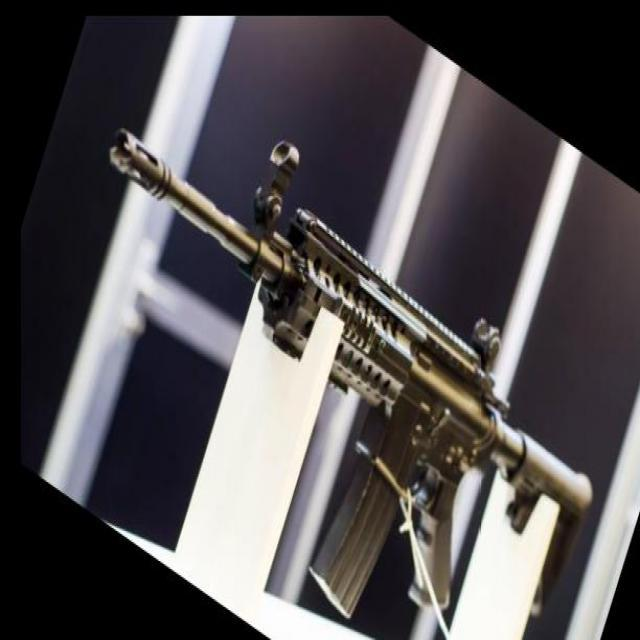weapon: (109, 128, 594, 618)
